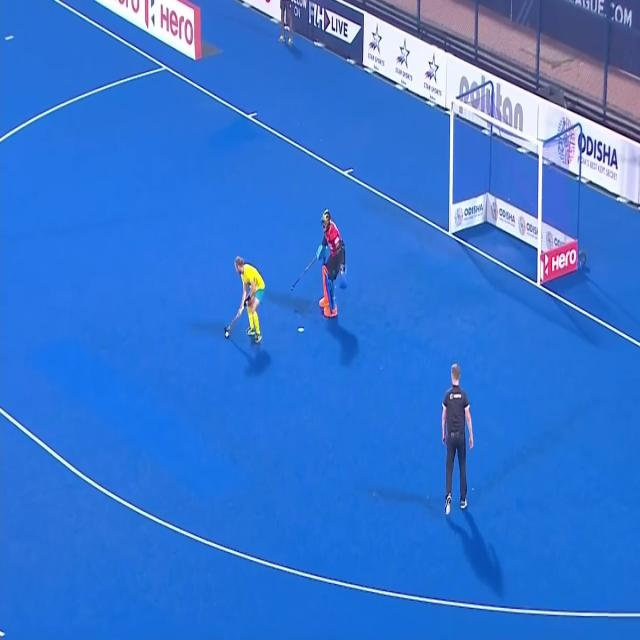ball: (223, 327, 230, 339)
